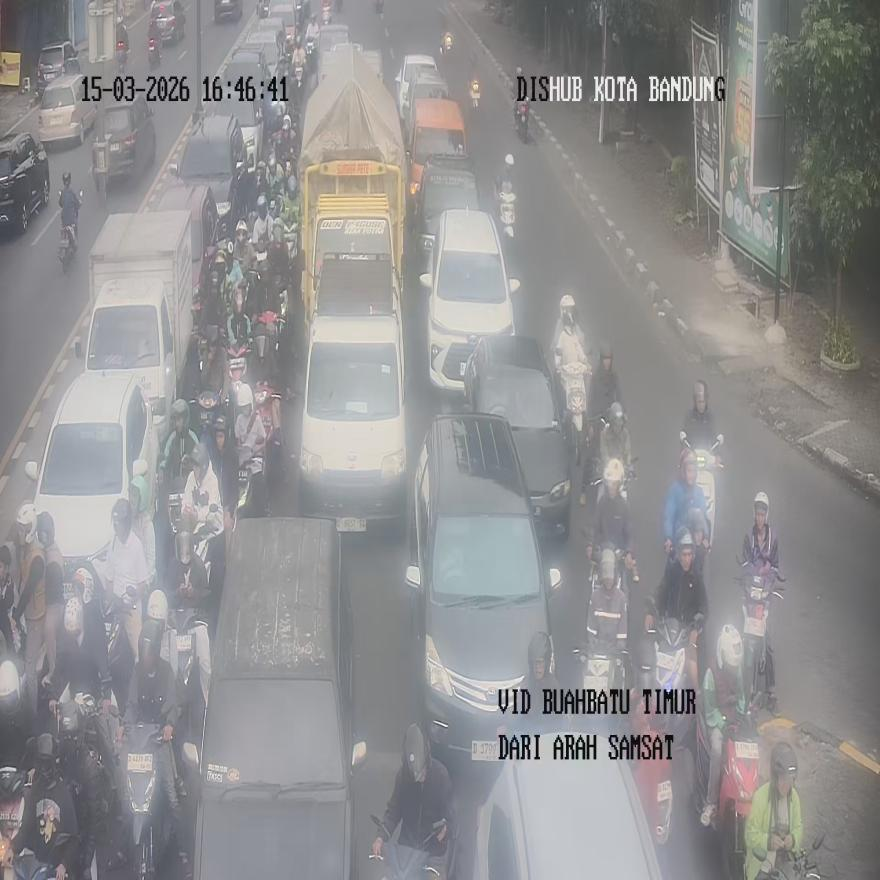Mobil: (188, 518, 365, 878), (404, 413, 562, 764), (24, 372, 159, 603), (75, 210, 196, 447), (473, 729, 663, 879), (462, 334, 573, 539), (420, 209, 519, 392), (38, 71, 97, 148)
Motor: (695, 712, 761, 879), (124, 724, 182, 878), (579, 547, 632, 714), (734, 558, 784, 714), (634, 608, 690, 736), (629, 692, 673, 847), (236, 381, 282, 518), (370, 814, 454, 880), (678, 431, 722, 552), (583, 408, 635, 506), (168, 490, 225, 576), (253, 381, 284, 487), (558, 362, 589, 465), (197, 387, 228, 460), (58, 189, 82, 272), (496, 183, 516, 237), (514, 101, 529, 143), (304, 38, 318, 83), (148, 35, 161, 68), (468, 80, 481, 109), (441, 31, 453, 56), (320, 1, 332, 26)
Truk berat: (299, 51, 406, 314)
